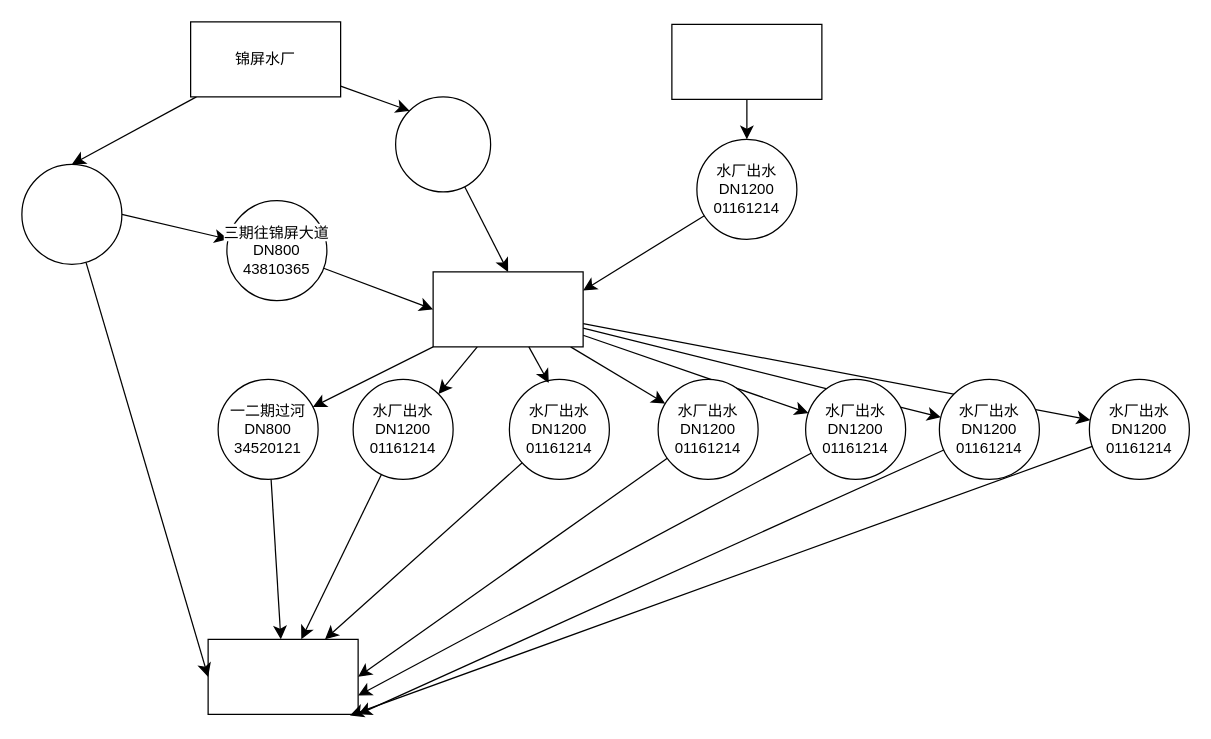
The diagram is 1211 pixels wide and 739 high, and some of its shapes have lost their labels. Each missing label, with the box of its shape:
一二期出水 231212060 DN1000: (394, 96, 491, 192)
三期出水 DN1200 230310281: (21, 163, 122, 264)
城北区: (432, 271, 583, 347)
城南区: (207, 638, 358, 714)
桐树垭水厂: (671, 23, 822, 99)
